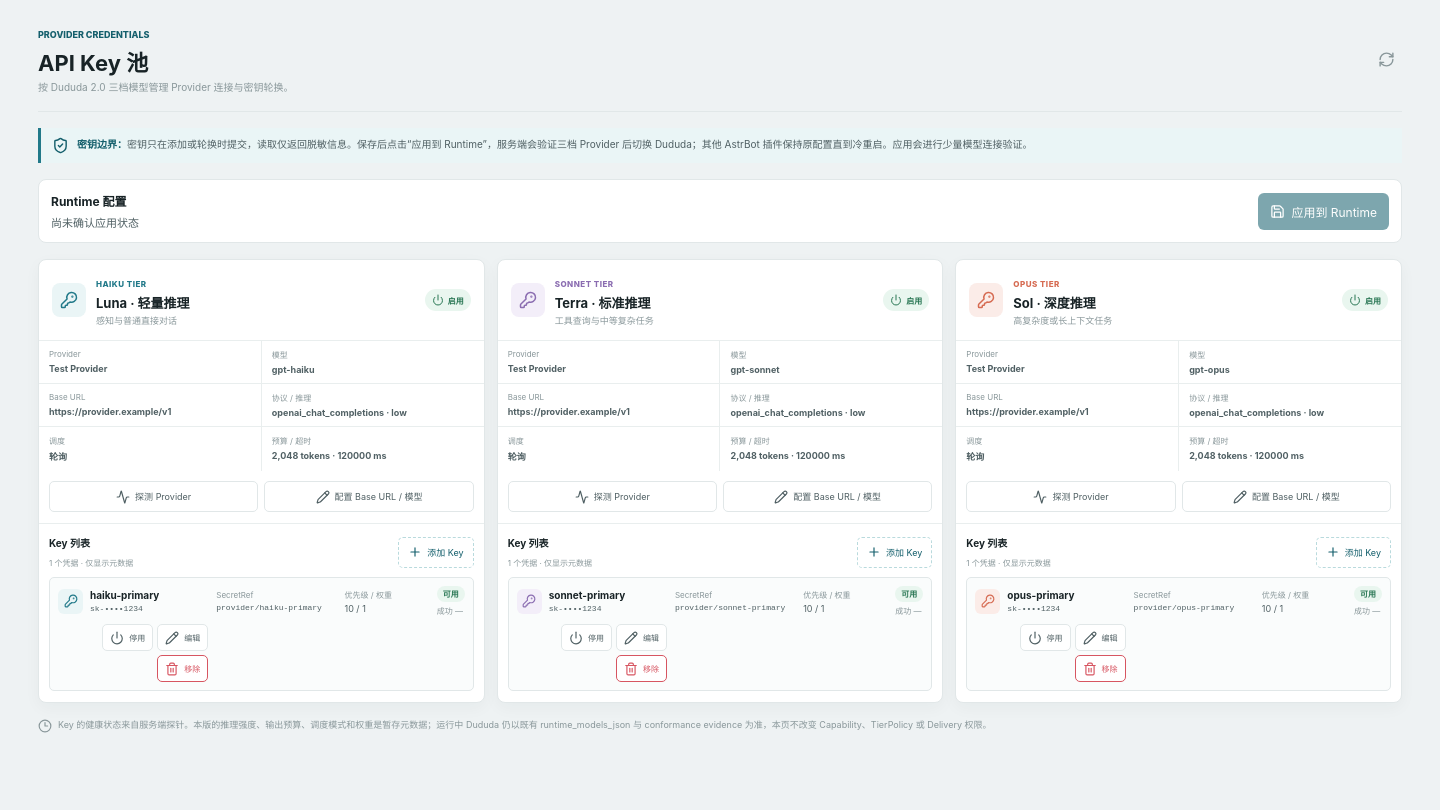
Test case: Explicit Runtime application › ignores an older status response after a newer refresh
Step 1. Click the button named "刷新 API Key 池" → (1386,59), box [1370,43,1402,75]
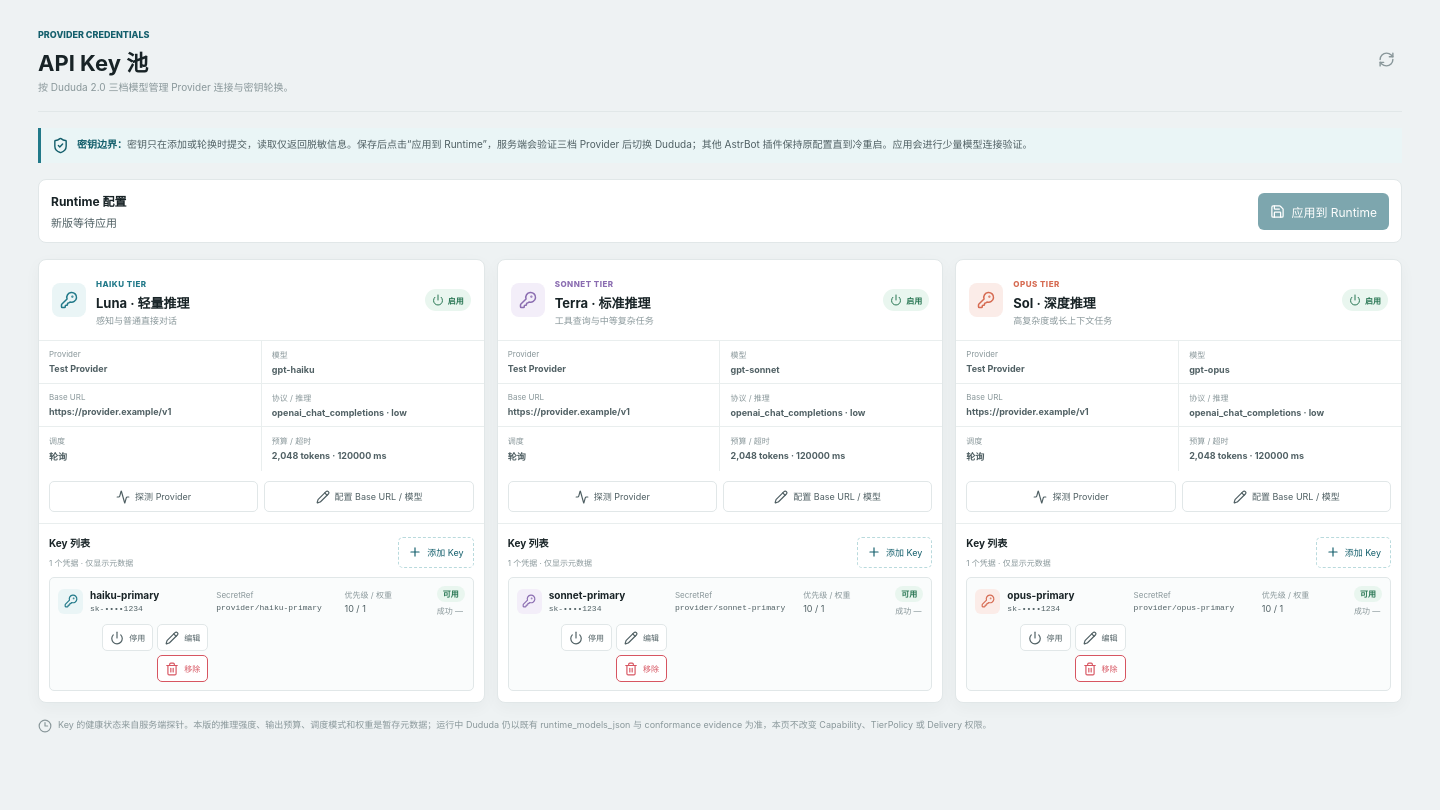
Expected: the text "新版等待应用" is shown, [51,214,126,230]
